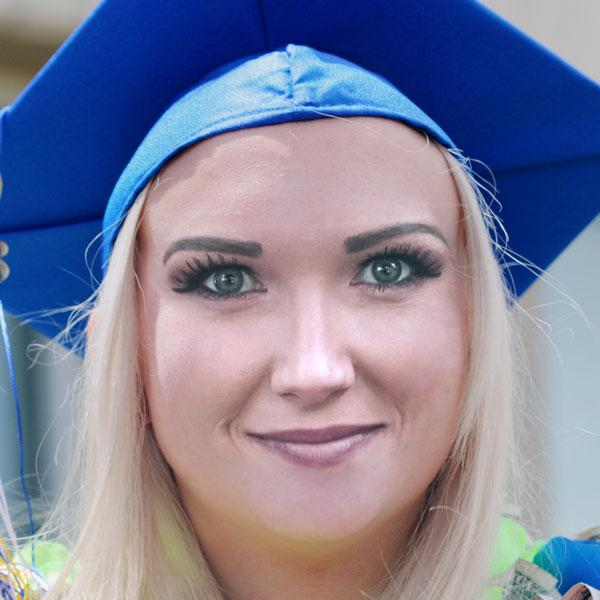Eyes: (336, 236, 448, 308), (169, 249, 281, 312)
